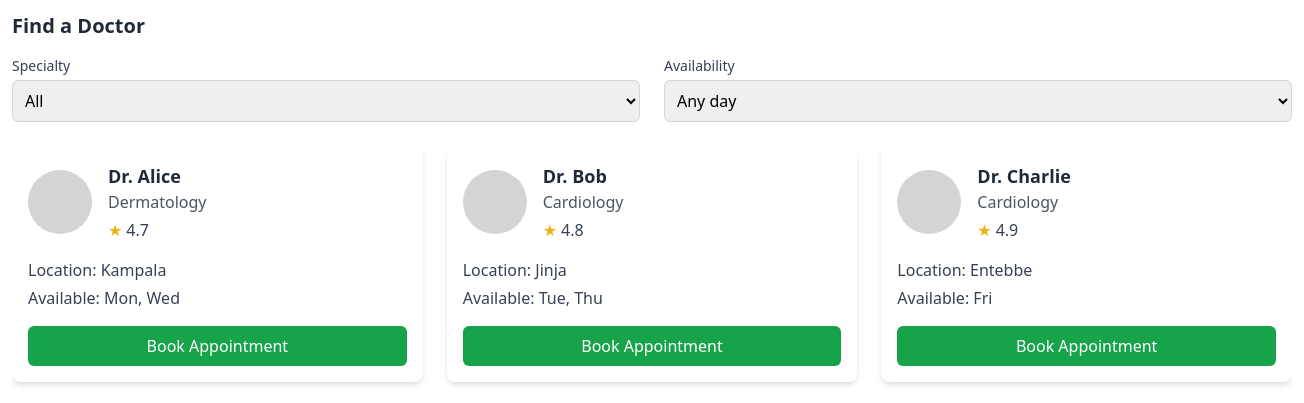
Test: DoctorsDirectory › filters by both specialty and availability
Select "Cardiology" in the dropdown labelled "Specialty" at (326, 101), box [12,80,640,122]
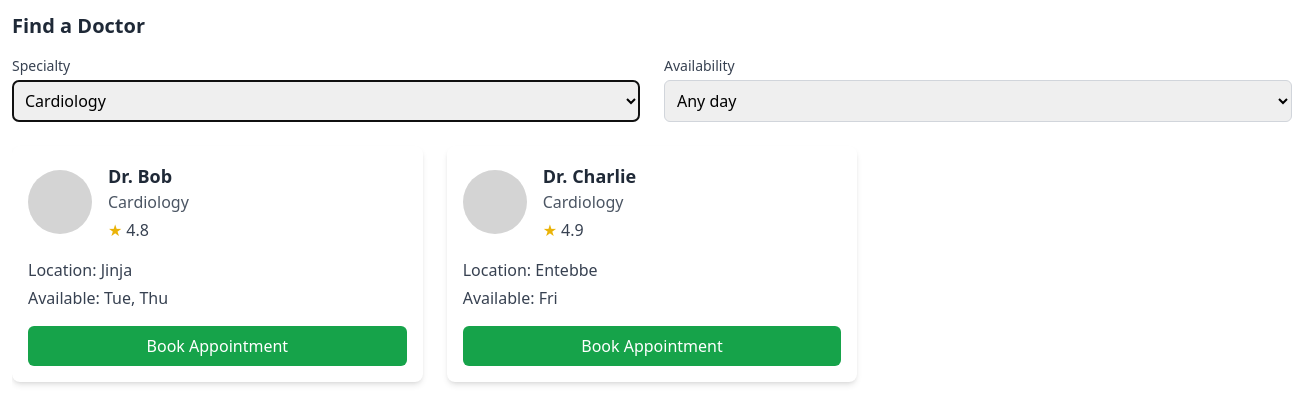
Select "Friday" in the dropdown labelled "Availability" at (978, 101), box [664,80,1292,122]
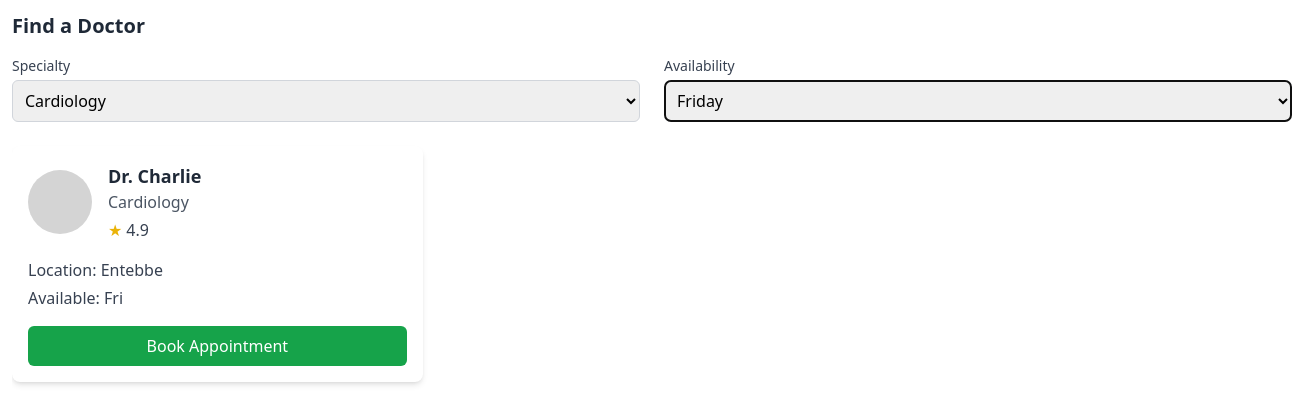
Check: the heading "Dr. Charlie" is shown, box [108,162,202,190]
Check: the heading "Dr. Bob" is gone
